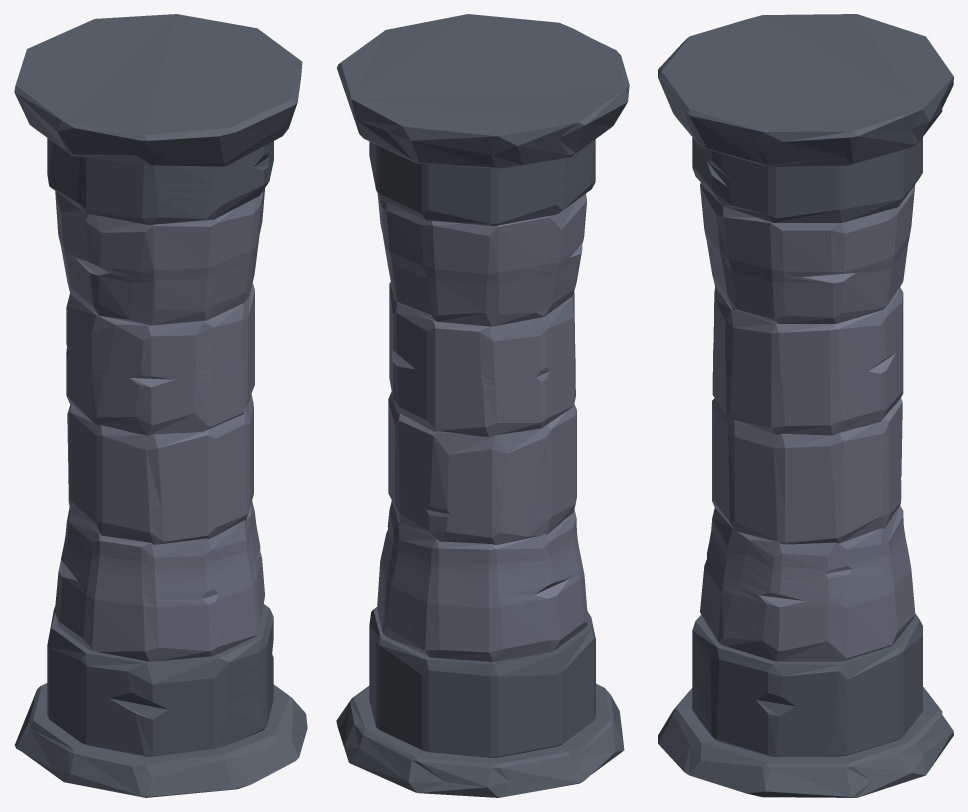
The model's file is Round_Column.glb.
The picture shows the model from 3 angles, left to right: view 1: azimuth 30°, elevation 25°; view 2: azimuth 150°, elevation 25°; view 3: azimuth 270°, elevation 25°; orthographic projection.
Visible parts, largest first — view 1: world; view 2: world; view 3: world.
Part boxes in pixels (x1,y1,x2,y2): world: [14, 14, 307, 797]; world: [336, 14, 629, 797]; world: [658, 14, 953, 797].
Size of the model in its own units: 200 by 510 by 205.
